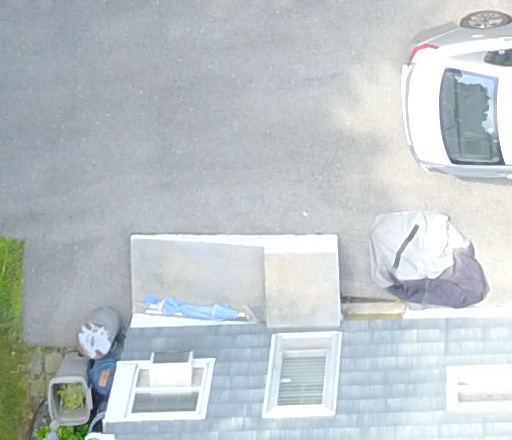trash bin: (35, 340, 108, 430), (70, 292, 124, 363), (86, 348, 125, 405)
